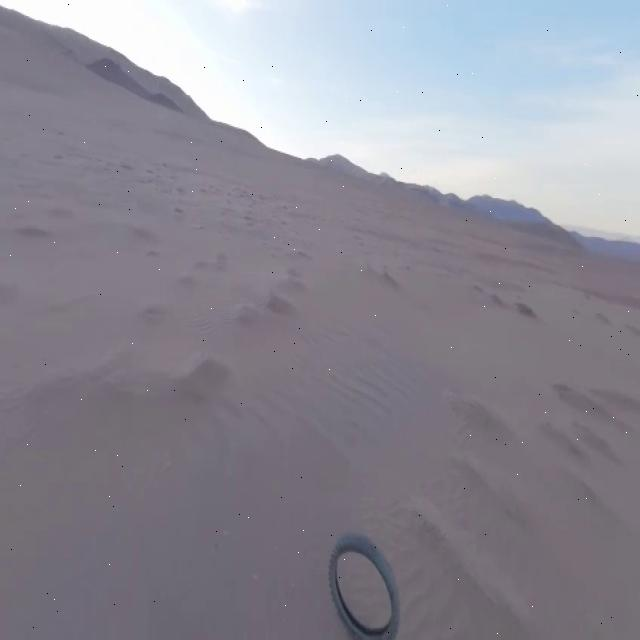Tire: (328, 536, 399, 639)
